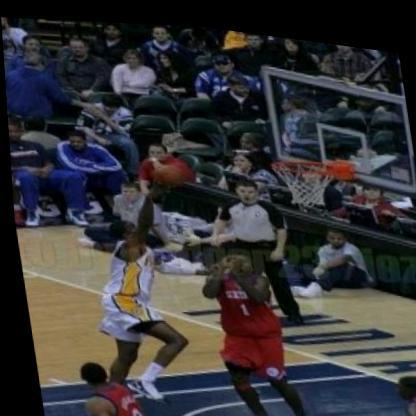basketball: (146, 150, 186, 190)
